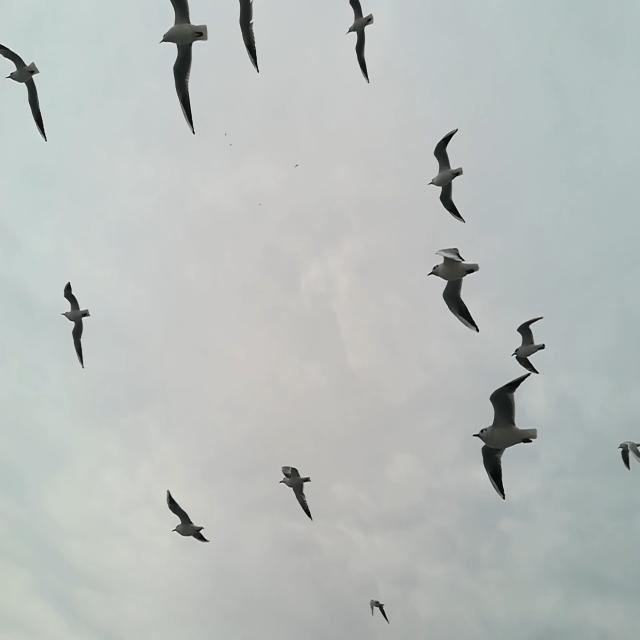bird: (472, 370, 537, 504), (158, 0, 208, 135), (0, 36, 47, 143), (427, 247, 481, 333), (428, 128, 467, 225), (61, 282, 91, 370), (345, 0, 374, 85), (166, 490, 210, 544), (512, 316, 546, 375), (278, 465, 312, 521), (236, 0, 258, 73), (617, 440, 640, 473), (368, 598, 391, 624), (294, 163, 300, 169)
